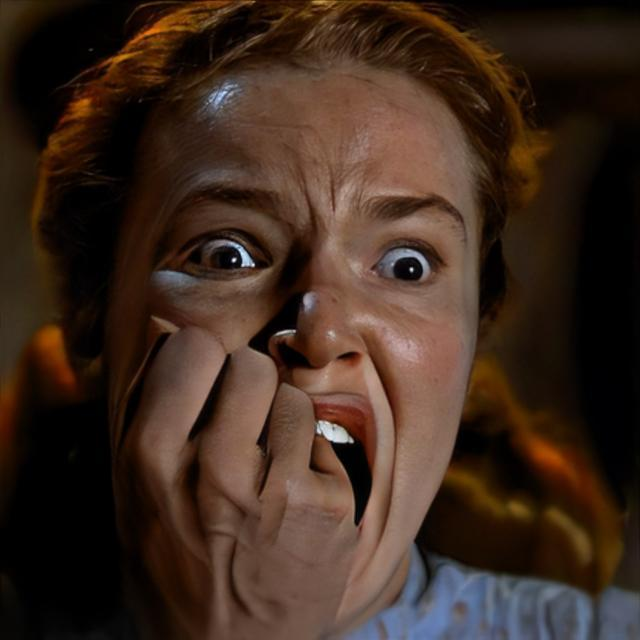fear: (106, 47, 482, 640)
